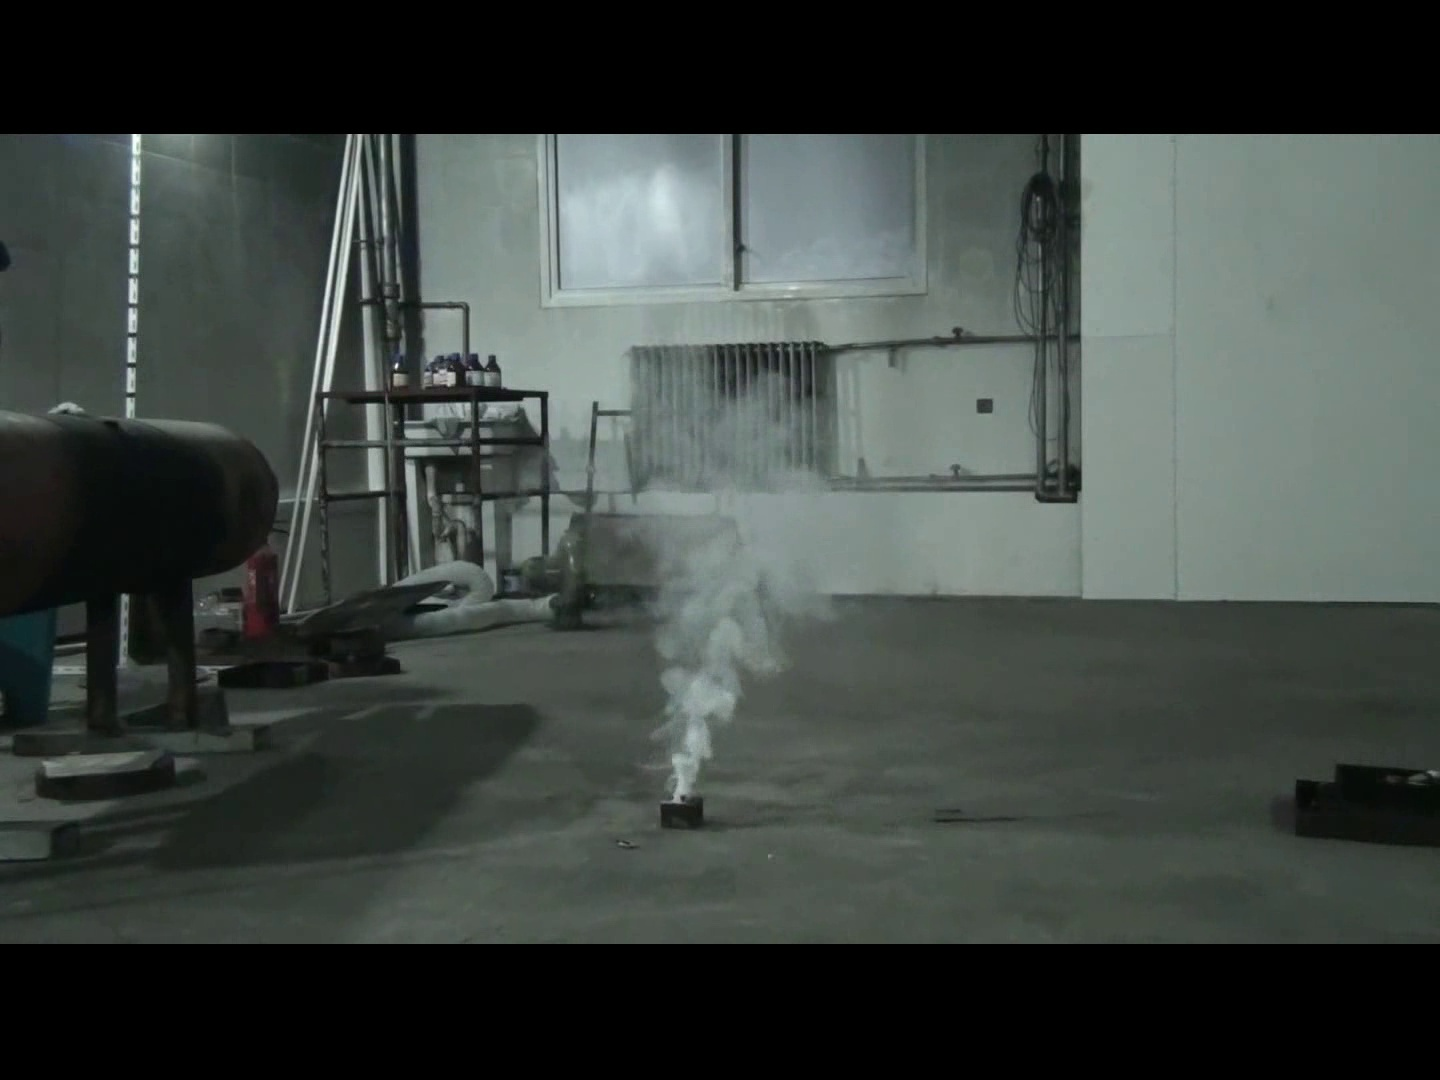smoke: (578, 309, 861, 793)
